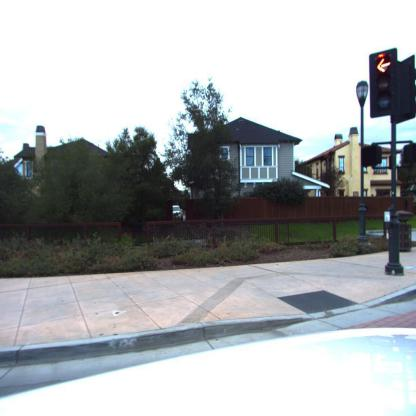traffic light: (368, 50, 414, 122), (362, 145, 382, 168)
